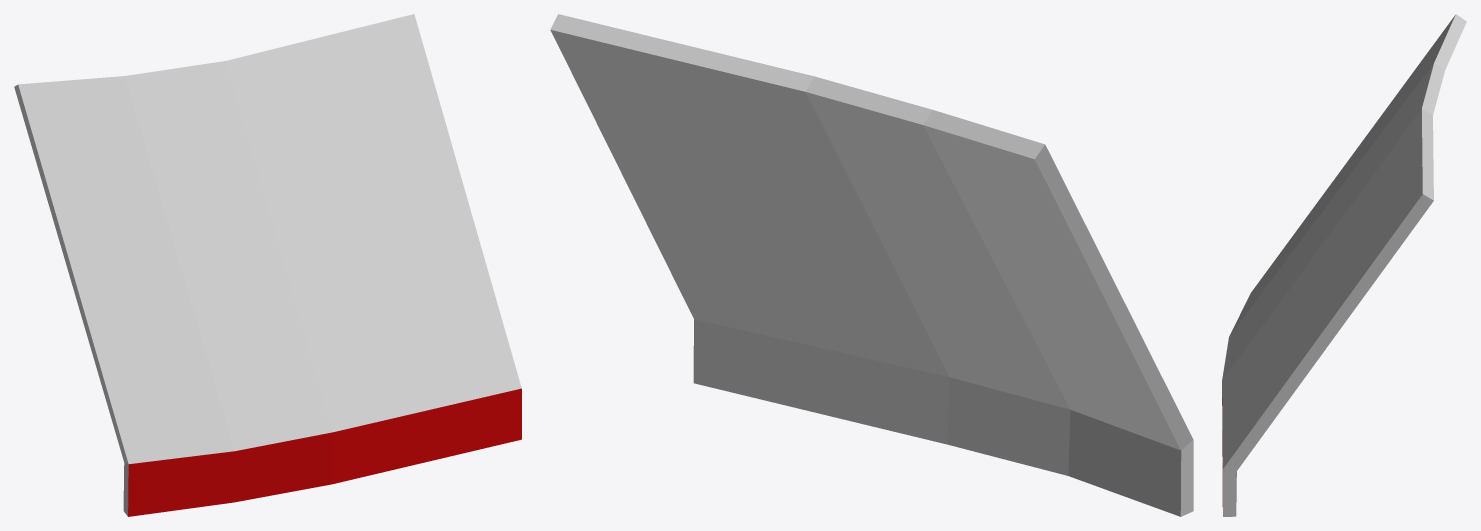
Rendered from SB Side Hatch anim.fbx.
3 renders of one model, left to right at view 1: azimuth 30°, elevation 25°; view 2: azimuth 150°, elevation 25°; view 3: azimuth 270°, elevation 25°, orthographic. The views are drawn at different scales.
Visible parts, largest first — view 1: SB Side Hatch; view 2: SB Side Hatch; view 3: SB Side Hatch.
Part boxes in pixels (<box>): SB Side Hatch: <box>14,14,521,516</box>; SB Side Hatch: <box>550,14,1193,516</box>; SB Side Hatch: <box>1222,14,1466,516</box>.
Size of the model in its own units: 152 by 136 by 91.34.
